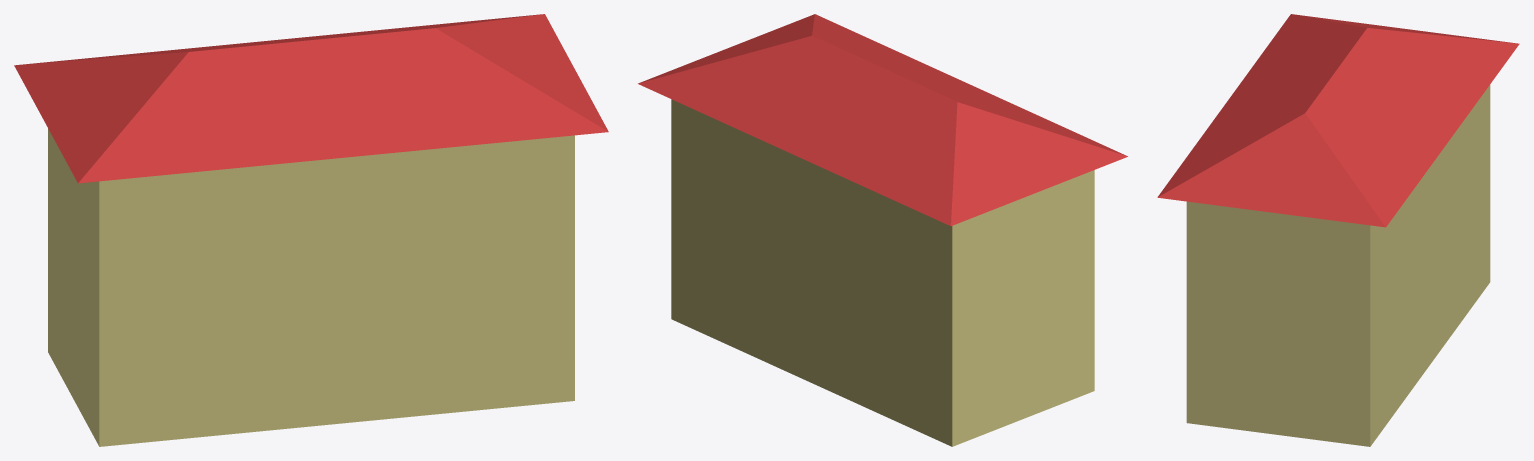
3 views of the same model, side by side, from view 1: azimuth 30°, elevation 25°; view 2: azimuth 150°, elevation 25°; view 3: azimuth 270°, elevation 25° (orthographic). The views are drawn at different scales.
Visible parts, largest first — view 1: group_5, group_3, group_4; view 2: group_5, group_3, group_4; view 3: group_5, group_3, group_4.
Part boxes in pixels (box(x1,y1,x2,y2)): group_5: box(48, 128, 574, 446); group_3: box(14, 14, 608, 183); group_4: box(16, 14, 607, 183); group_5: box(671, 99, 1094, 446); group_3: box(638, 14, 1127, 225); group_4: box(639, 14, 1127, 225); group_5: box(1186, 84, 1490, 446); group_3: box(1157, 15, 1519, 227); group_4: box(1158, 14, 1519, 227).
Bounding box in the file's own units: 21.29 × 15.29 × 13.11.
